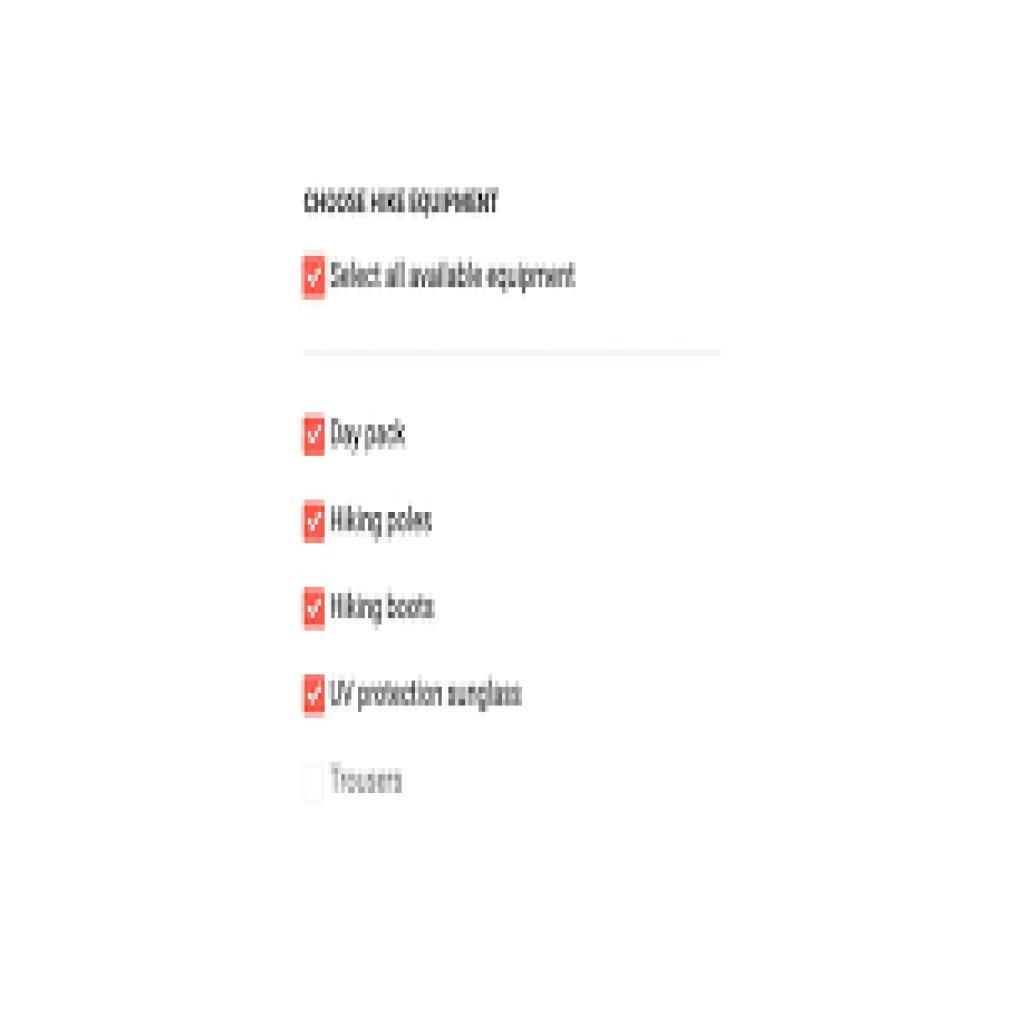checkbox: (302, 672, 329, 721), (304, 500, 331, 544), (303, 414, 328, 458), (304, 258, 327, 302), (305, 586, 327, 631), (304, 767, 326, 803)
label: (330, 257, 583, 295), (328, 674, 524, 718), (330, 590, 442, 629), (331, 504, 434, 544), (332, 760, 407, 803), (330, 415, 409, 455)
